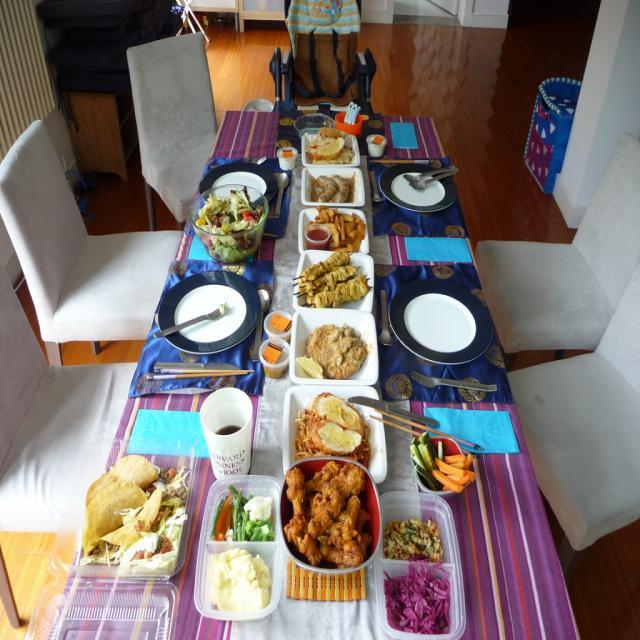ceramic plate: (287, 382, 384, 554), (284, 459, 372, 594), (291, 300, 374, 420)
